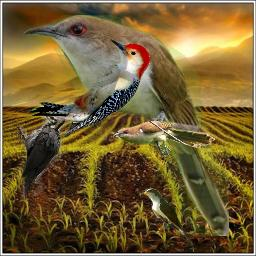Cuckoo: (22, 15, 229, 236), (113, 121, 215, 157), (142, 187, 194, 246)
Woodpecker: (27, 39, 150, 138), (16, 112, 70, 200)
